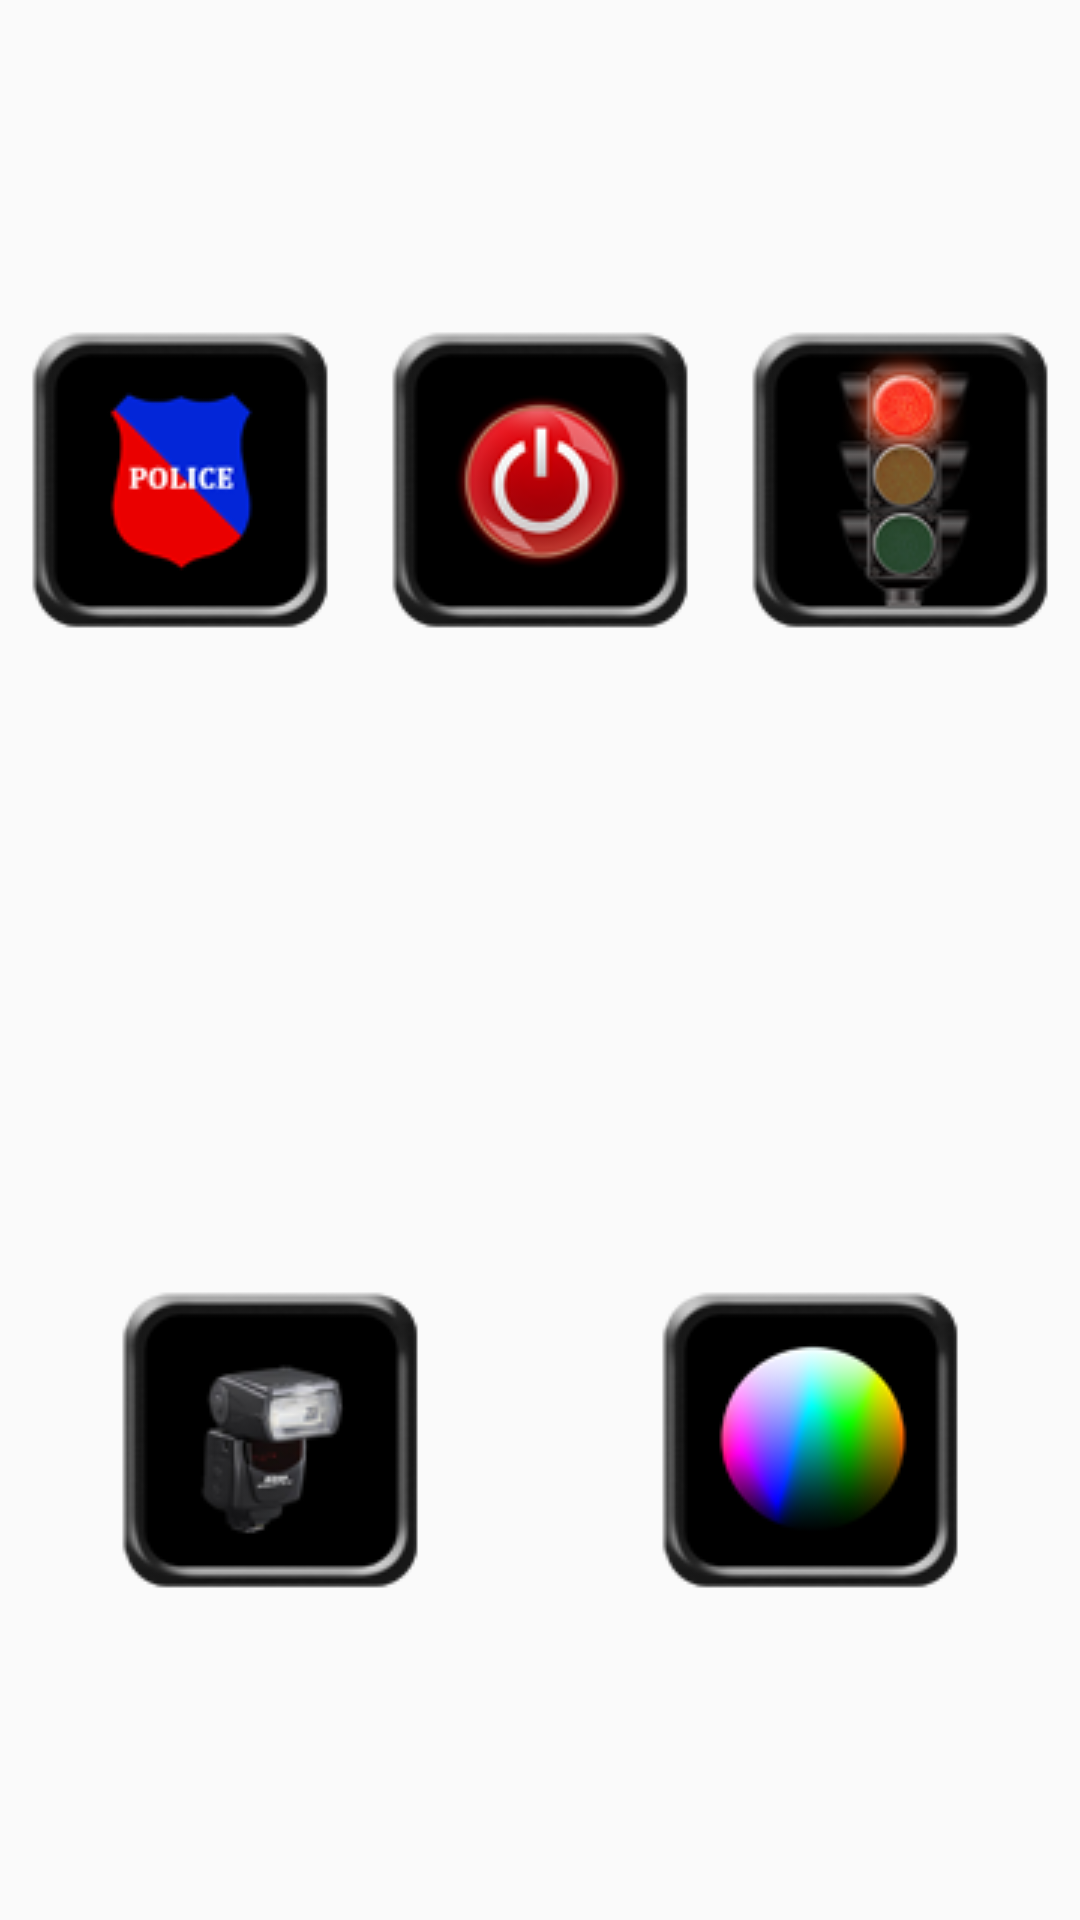

Named icons in this screenshot (1080px x 1920px) and their centers, point (x, y):
blinking change: point (270, 1440)
traffic change: point (900, 480)
